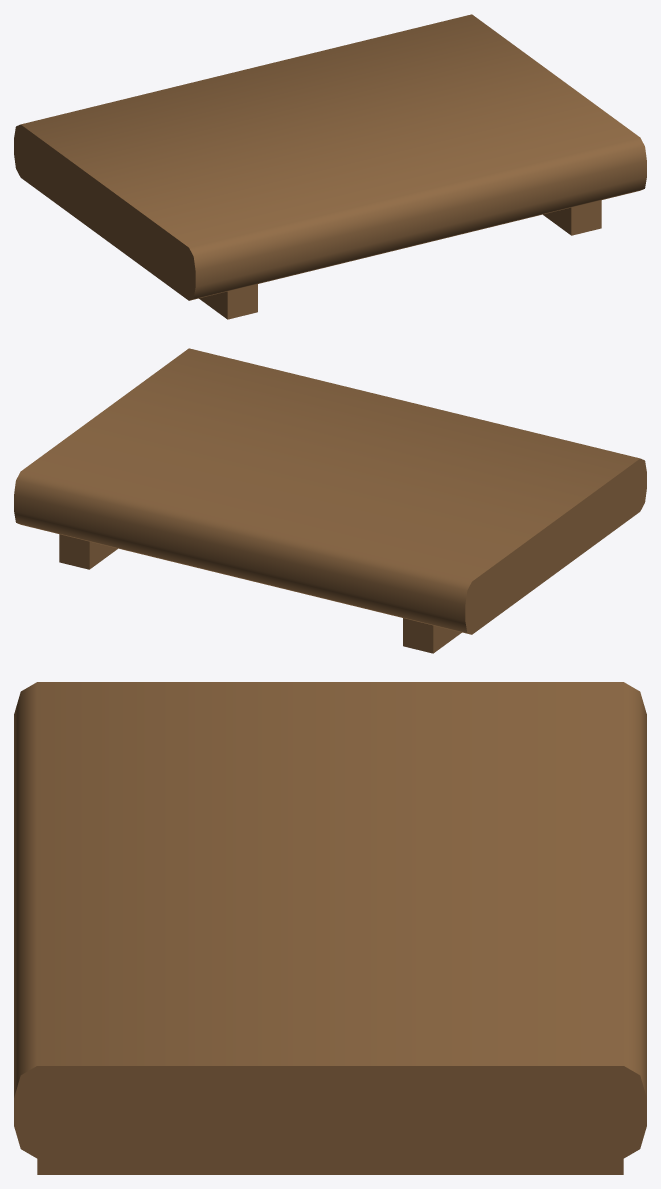
Rendered from board.glb.
3 views of the same model, one above another, from view 1: azimuth 30°, elevation 25°; view 2: azimuth 150°, elevation 25°; view 3: azimuth 270°, elevation 25° (orthographic). The views are drawn at different scales.
Parts seen in each view (by area): view 1: Environment_WoodenBoard; view 2: Environment_WoodenBoard; view 3: Environment_WoodenBoard.
Boxes of the visible parts, x1,y1,x2,y2 form: Environment_WoodenBoard: (14,14,646,319); Environment_WoodenBoard: (14,348,646,653); Environment_WoodenBoard: (14,682,646,1174).
Bounding box in the file's own units: 0.8254 × 0.1424 × 0.5753.
